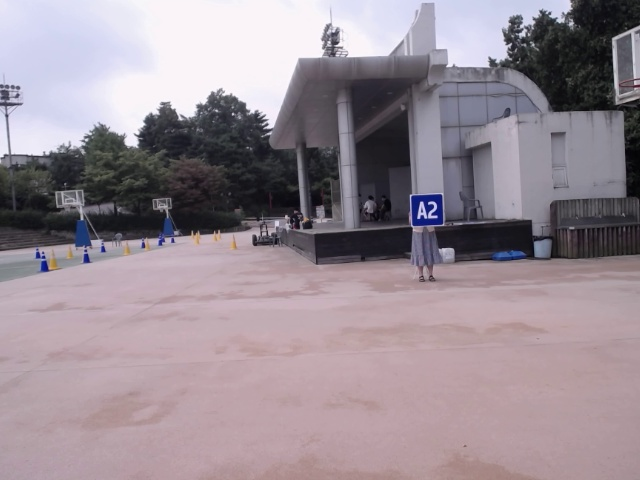delivery_a2: (410, 194, 445, 226)
